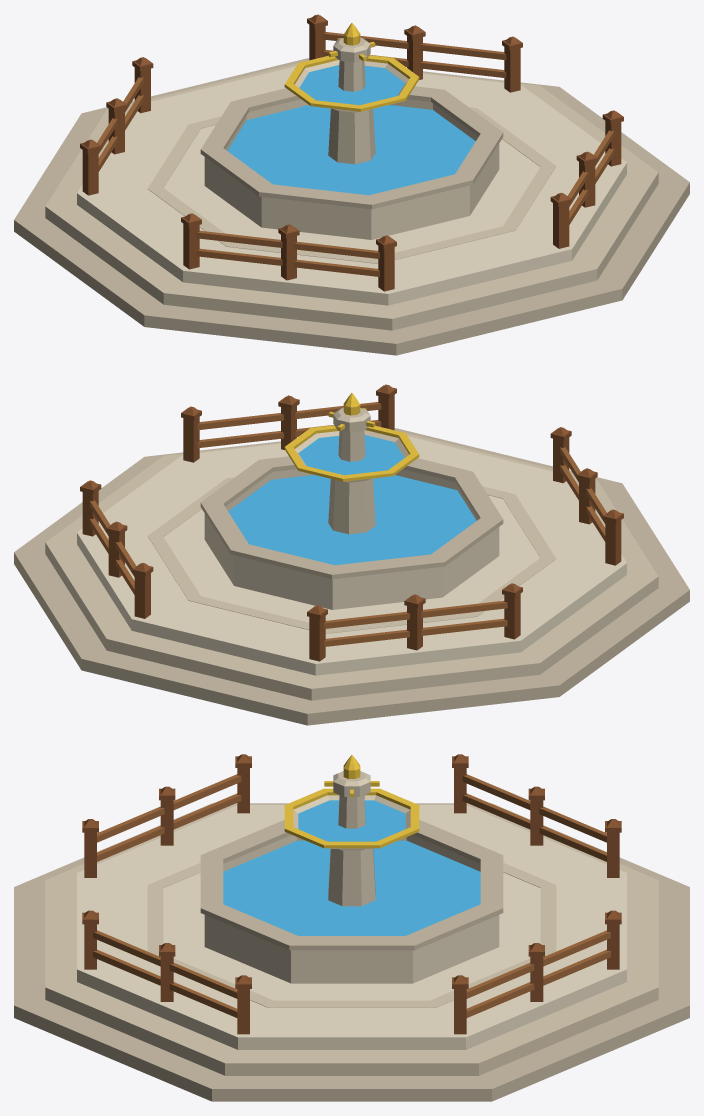
Rendered from w1_fountain.fbx.
3 views of the same model, one above another, from view 1: azimuth 30°, elevation 25°; view 2: azimuth 150°, elevation 25°; view 3: azimuth 270°, elevation 25° (orthographic). The views are drawn at different scales.
Visible parts, largest first — view 1: Fountain.Tier3, Fountain.Tier1, Fountain.Tier2, Fountain.Water, Fountain.Basin, Fountain.FencePosts, Fountain.BasinLip, Fountain.FenceRails, Fountain.FloorInlay, Fountain.Column, Fountain.Gold; view 2: Fountain.Tier3, Fountain.Tier1, Fountain.Tier2, Fountain.Water, Fountain.Basin, Fountain.FencePosts, Fountain.BasinLip, Fountain.FenceRails, Fountain.FloorInlay, Fountain.Column, Fountain.Gold; view 3: Fountain.Tier3, Fountain.Tier1, Fountain.Tier2, Fountain.Water, Fountain.Basin, Fountain.FenceRails, Fountain.BasinLip, Fountain.FencePosts, Fountain.FloorInlay, Fountain.Column, Fountain.Gold.
Boxes of the visible parts, x1,y1,x2,y2 form: Fountain.Tier3: (77, 66, 626, 305); Fountain.Tier1: (14, 58, 689, 355); Fountain.Tier2: (45, 63, 658, 330); Fountain.Water: (227, 65, 475, 195); Fountain.Basin: (204, 99, 499, 239); Fountain.FencePosts: (80, 14, 623, 291); Fountain.BasinLip: (200, 86, 503, 209); Fountain.FenceRails: (97, 32, 614, 276); Fountain.FloorInlay: (147, 107, 556, 263); Fountain.Column: (295, 37, 408, 164); Fountain.Gold: (284, 23, 419, 111); Fountain.Tier3: (77, 436, 626, 675); Fountain.Tier1: (14, 428, 689, 725); Fountain.Tier2: (45, 433, 658, 700); Fountain.Water: (228, 435, 476, 565); Fountain.Basin: (204, 469, 499, 609); Fountain.FencePosts: (80, 384, 623, 661); Fountain.BasinLip: (200, 456, 503, 579); Fountain.FenceRails: (89, 402, 606, 646); Fountain.FloorInlay: (147, 477, 556, 633); Fountain.Column: (295, 407, 408, 534); Fountain.Gold: (284, 393, 419, 481); Fountain.Tier3: (77, 805, 626, 1049); Fountain.Tier1: (14, 803, 689, 1101); Fountain.Tier2: (45, 804, 658, 1075); Fountain.Water: (223, 800, 480, 935); Fountain.Basin: (204, 835, 499, 983); Fountain.FenceRails: (93, 774, 610, 1017); Fountain.BasinLip: (200, 820, 503, 950); Fountain.FencePosts: (82, 754, 621, 1034); Fountain.FloorInlay: (147, 863, 556, 1007); Fountain.Column: (293, 771, 410, 906); Fountain.Gold: (284, 755, 419, 848).
Size of the model in its own units: 31.78 by 10.6 by 31.78.
